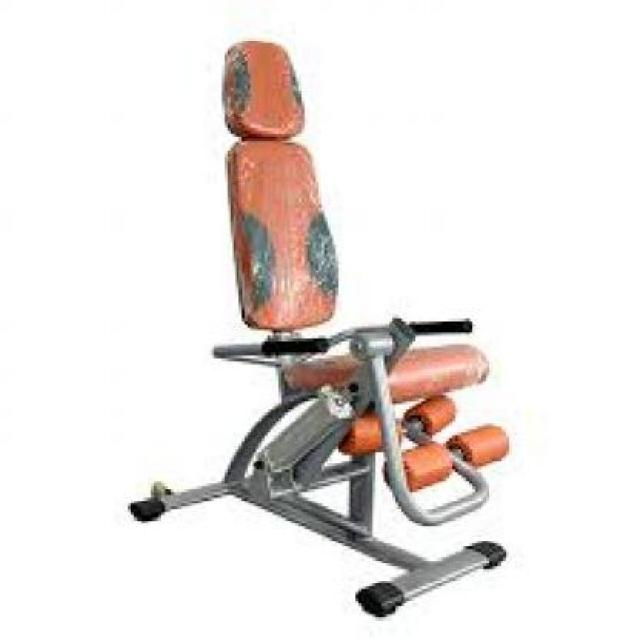leg extension: (98, 28, 572, 622)
